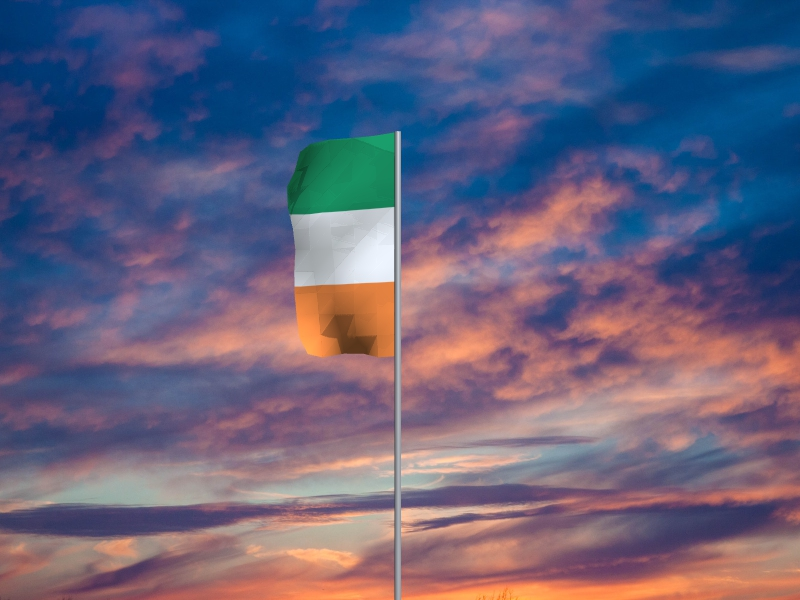ie: (286, 133, 395, 359)
